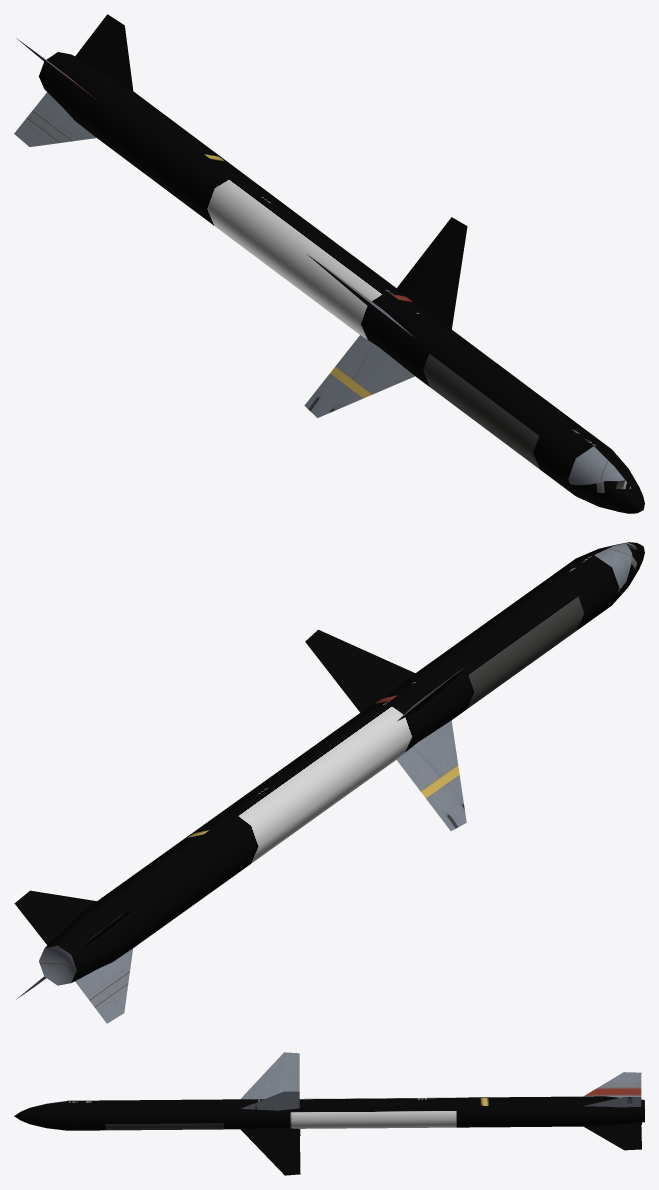
Rendered from rocket.obj.
3 views of the same model, one above another, from view 1: azimuth 30°, elevation 25°; view 2: azimuth 150°, elevation 25°; view 3: azimuth 270°, elevation 25° (orthographic). The views are drawn at different scales.
Parts seen in each view (by area): view 1: rocket1:Skyguard_Sparrow3; view 2: rocket1:Skyguard_Sparrow3; view 3: rocket1:Skyguard_Sparrow3.
Boxes of the visible parts, x1=… form: rocket1:Skyguard_Sparrow3: x1=14, y1=14, x2=644, y2=513; rocket1:Skyguard_Sparrow3: x1=14, y1=542, x2=644, y2=1023; rocket1:Skyguard_Sparrow3: x1=14, y1=1052, x2=644, y2=1175.
Size of the model in its own units: 0.5147 by 0.5147 by 3.5.
1 material, 1 textured.
